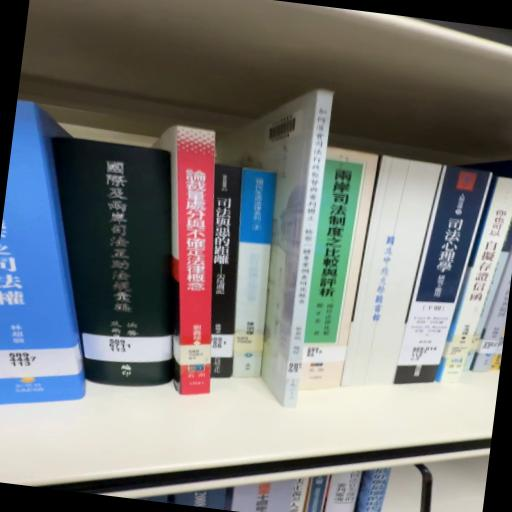backward: (341, 156, 444, 386)
book: (22, 136, 202, 398), (128, 120, 248, 400), (393, 164, 494, 396), (300, 148, 380, 350), (215, 163, 284, 387)
